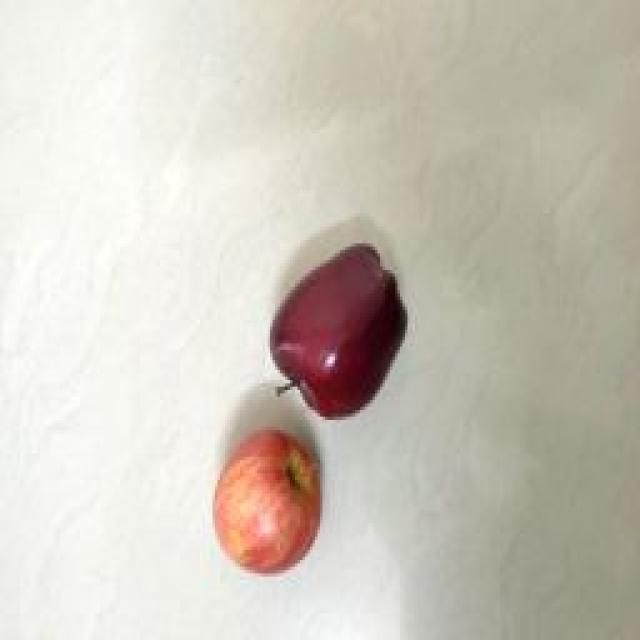Good_Apple: (268, 243, 408, 423), (212, 427, 322, 580)
